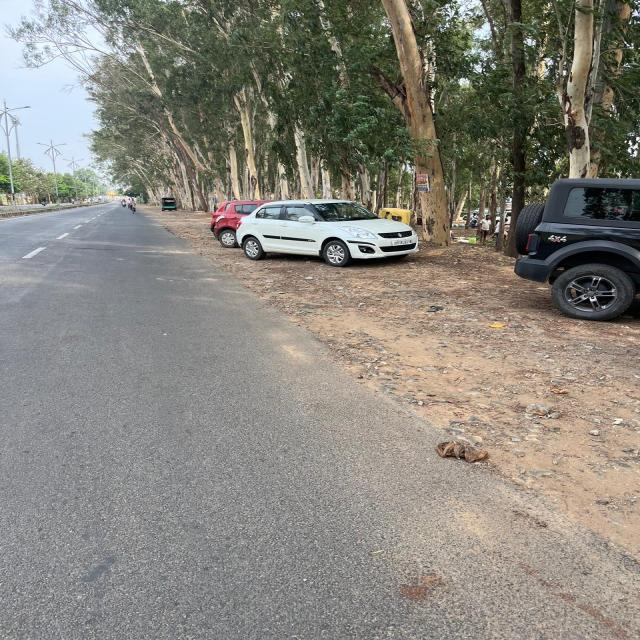bike: (121, 200, 127, 208)
car: (503, 169, 640, 322), (237, 193, 422, 272)
